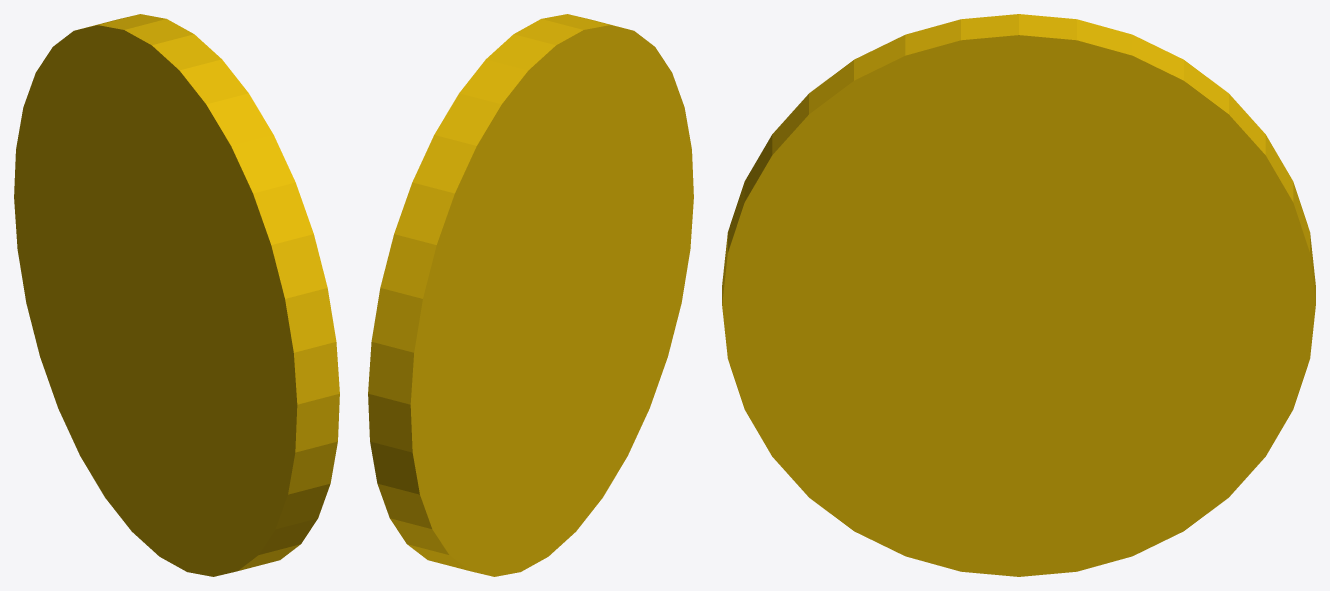
The model's file is Rifqi_140810200021_Coin.fbx.
The picture shows the model from 3 angles, left to right: view 1: azimuth 30°, elevation 25°; view 2: azimuth 150°, elevation 25°; view 3: azimuth 270°, elevation 25°; orthographic projection. The views are drawn at different scales.
Visible parts, largest first — view 1: Cylinder; view 2: Cylinder; view 3: Cylinder.
Part boxes in pixels (x1,y1,x2,y2): Cylinder: [14, 14, 339, 576]; Cylinder: [368, 14, 693, 576]; Cylinder: [722, 14, 1315, 576].
Size of the model in its own units: 20.56 by 200 by 200.
